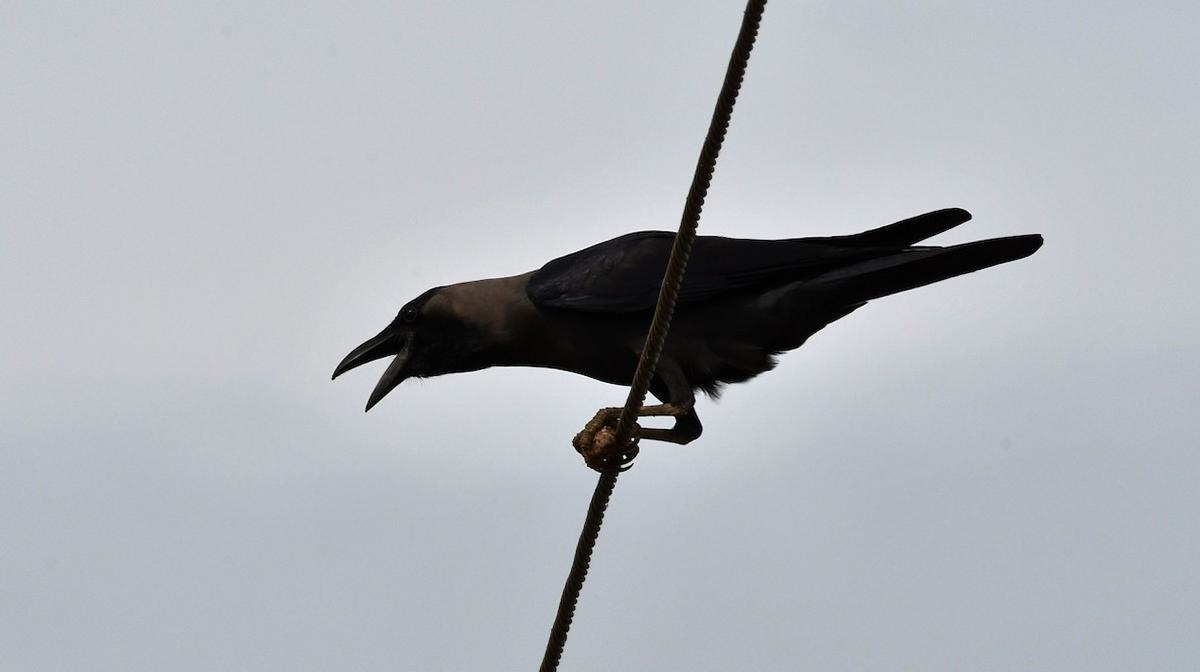crow: (358, 196, 1009, 482)
